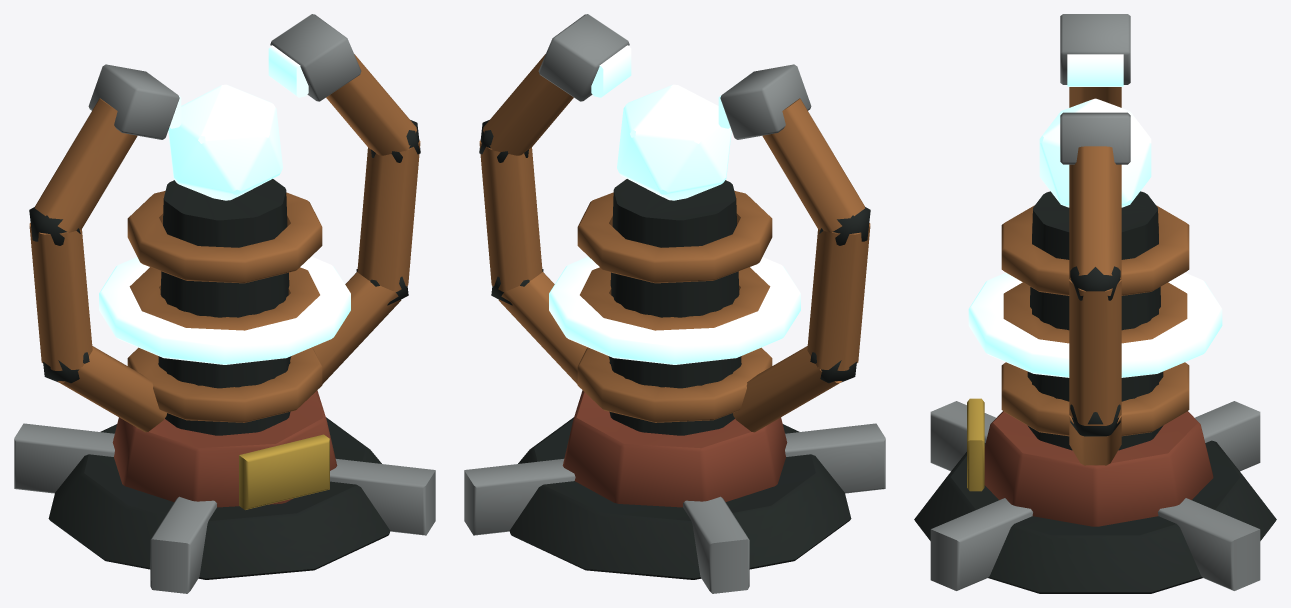
File: act_magnet_sling_buoy.glb
The picture shows the model from 3 angles, left to right: view 1: azimuth 30°, elevation 25°; view 2: azimuth 150°, elevation 25°; view 3: azimuth 270°, elevation 25°; orthographic projection.
Parts seen in each view (by area): view 1: act_magnet_sling_buoy_mesh; view 2: act_magnet_sling_buoy_mesh; view 3: act_magnet_sling_buoy_mesh.
Part boxes in pixels (x1=…): act_magnet_sling_buoy_mesh: x1=14, y1=14, x2=435, y2=593; act_magnet_sling_buoy_mesh: x1=464, y1=14, x2=885, y2=593; act_magnet_sling_buoy_mesh: x1=914, y1=14, x2=1276, y2=593.
Size of the model in its own units: 1.27 by 1.43 by 1.03.
